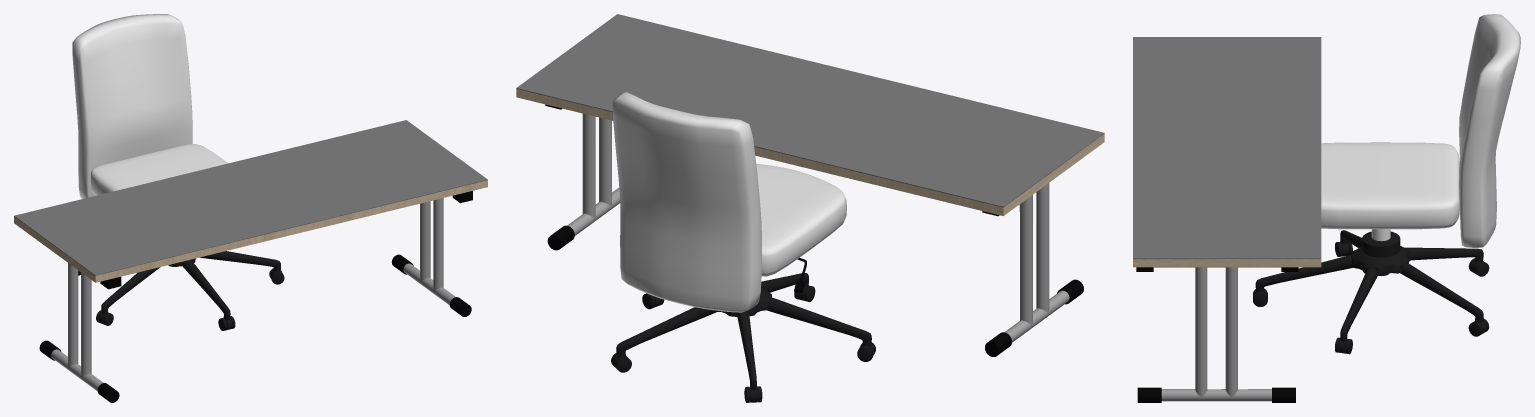
Rendered from desk-chair.glb.
The picture shows the model from 3 angles, left to right: view 1: azimuth 30°, elevation 25°; view 2: azimuth 150°, elevation 25°; view 3: azimuth 270°, elevation 25°; orthographic projection. The views are drawn at different scales.
Visible parts, largest first — view 1: object 6, Cube.069, Chair, object 11, object 15, Cylinder.002, object 10; view 2: object 6, Cube.069, Chair, Cylinder.002, object 11, object 15, object 10; view 3: object 6, Chair, Cube.069, Cylinder.002, object 10, object 11, object 12, object 7.
Boxes of the visible parts, box(x1,y1,x2,y2) form: object 6: box(14, 120, 487, 275); Cube.069: box(72, 14, 192, 198); Chair: box(90, 144, 228, 195); object 11: box(14, 180, 487, 282); object 15: box(51, 263, 103, 390); Cylinder.002: box(78, 251, 284, 330); object 10: box(403, 198, 455, 304); object 6: box(516, 14, 1104, 207); Cube.069: box(612, 92, 761, 312); Chair: box(756, 164, 846, 276); Cylinder.002: box(611, 273, 875, 402); object 11: box(516, 88, 1104, 215); object 15: box(1004, 183, 1069, 342); object 10: box(567, 113, 620, 235); object 6: box(1133, 37, 1321, 259); Chair: box(1321, 142, 1459, 229); Cube.069: box(1459, 14, 1520, 247); Cylinder.002: box(1253, 230, 1489, 354); object 10: box(1154, 267, 1280, 401); object 11: box(1133, 259, 1321, 267); object 12: box(1137, 387, 1161, 402); object 7: box(1272, 387, 1295, 402).
Bounding box in the file's own units: 0.0403 × 0.0226 × 0.0298.
9 materials, 1 textured.
